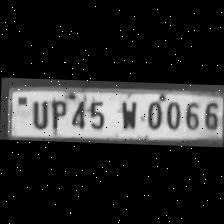0: (140, 97, 164, 130), (162, 97, 182, 130)
4: (67, 96, 87, 130)
5: (84, 96, 108, 131)
6: (200, 98, 220, 131), (180, 98, 200, 130)
P: (47, 96, 67, 130)
U: (27, 97, 50, 130)
W: (113, 96, 141, 131)
